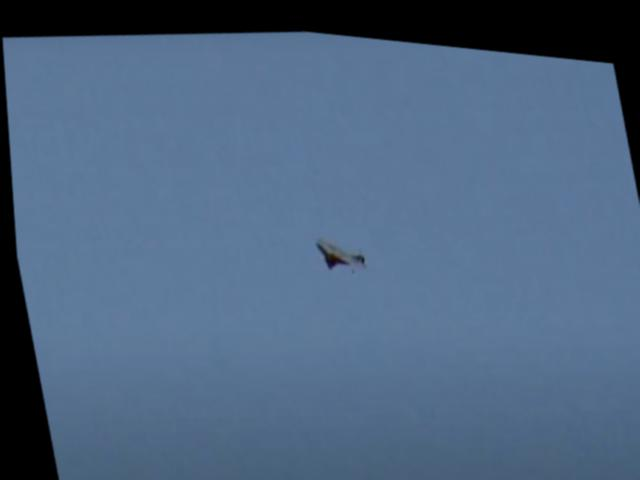iha: (312, 227, 365, 269)
